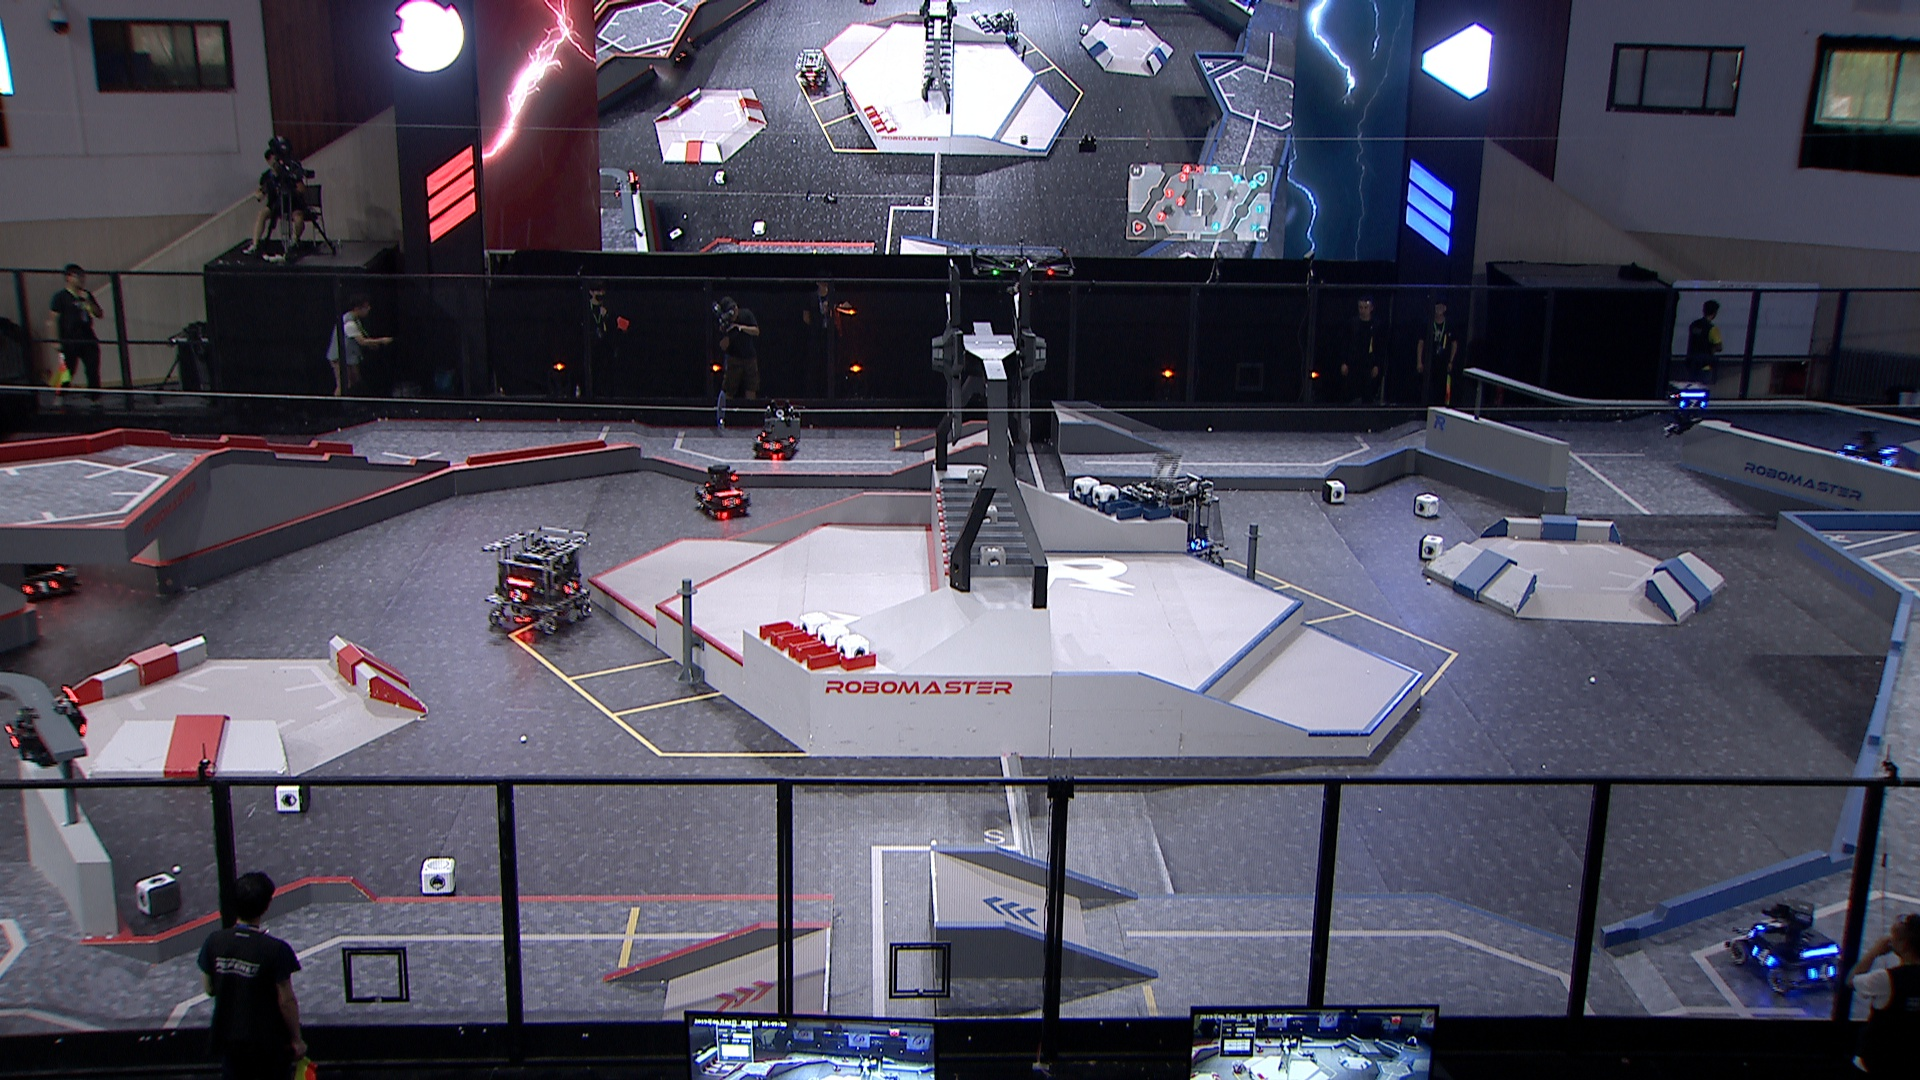armor: (1747, 945, 1779, 968), (3, 723, 24, 752), (1807, 964, 1840, 982), (22, 579, 59, 595), (1753, 918, 1785, 932), (506, 589, 531, 605), (1679, 400, 1708, 413), (560, 580, 580, 595), (719, 496, 740, 509), (1188, 537, 1207, 551), (761, 440, 781, 451), (699, 491, 712, 502)
car: (483, 522, 595, 641), (1730, 895, 1854, 994), (1124, 469, 1229, 572), (1832, 425, 1904, 476), (694, 462, 752, 517), (749, 406, 803, 460)
ignore: (793, 46, 831, 91), (992, 7, 1021, 45), (669, 38, 699, 67), (613, 171, 641, 200)
watcher: (0, 687, 91, 766), (1659, 378, 1716, 440)
